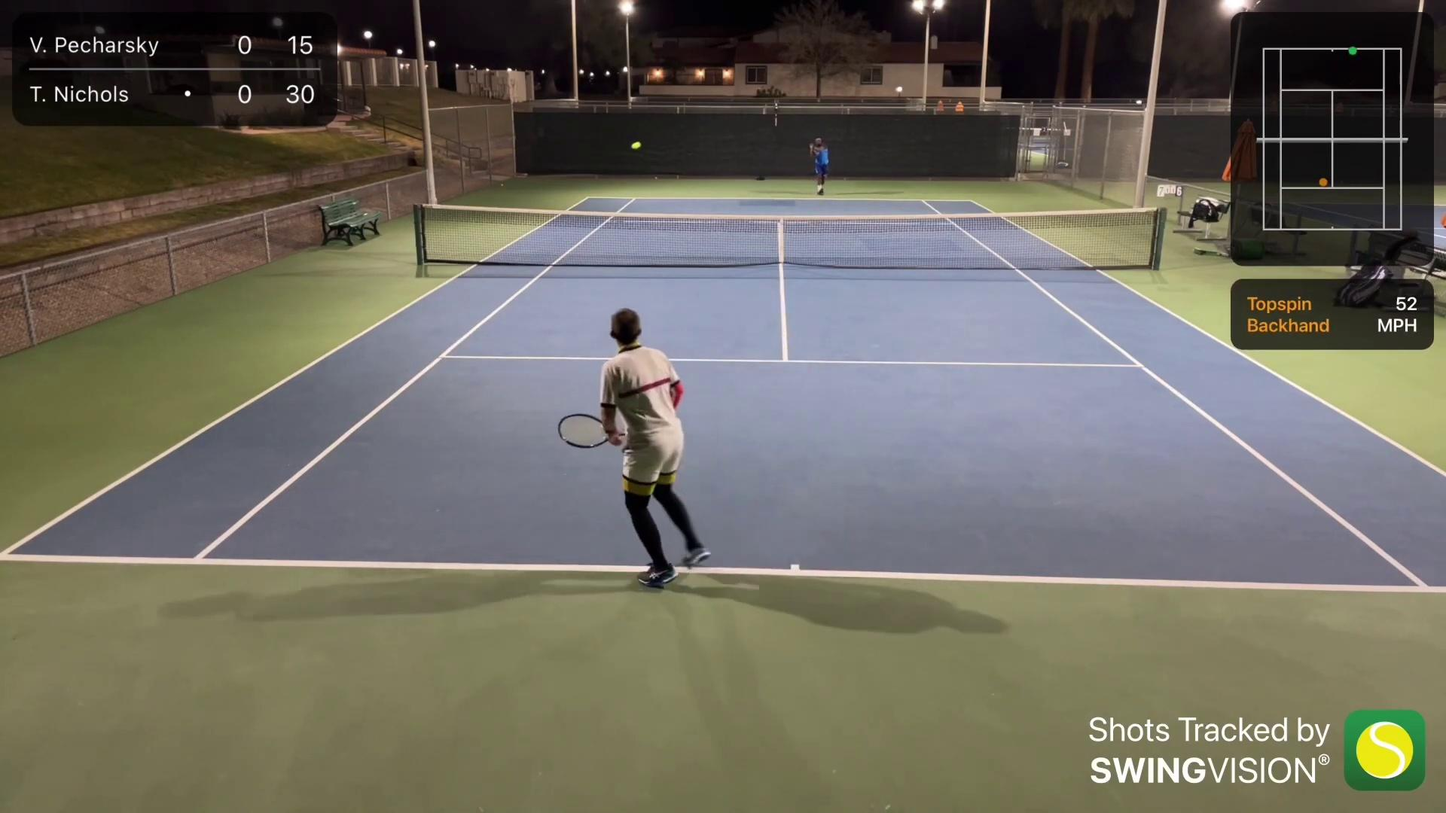ball: (632, 141, 641, 150)
